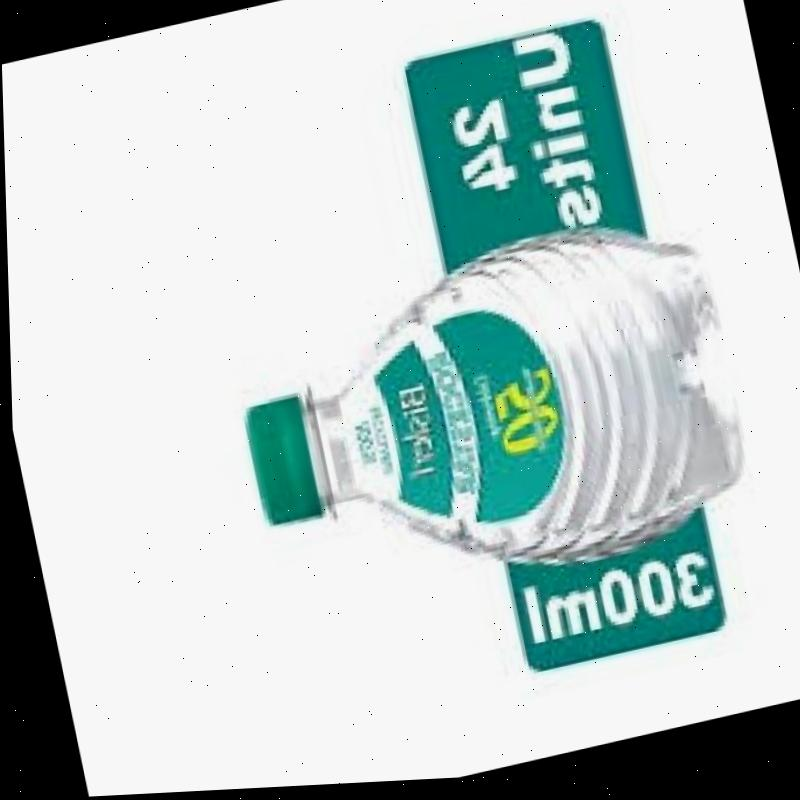botella: (209, 197, 765, 638)
